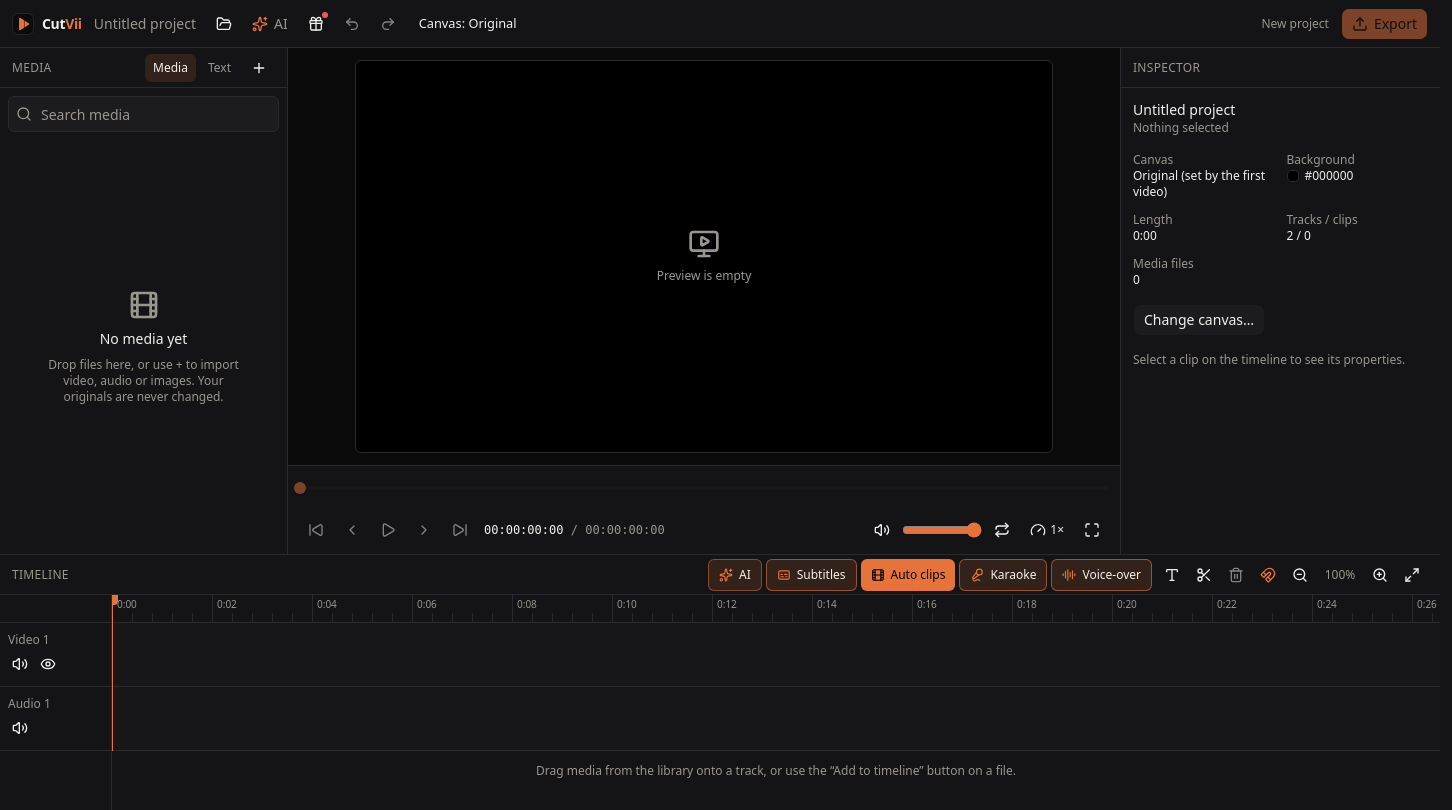
Test case: Original canvas applied by the first media › an image first falls back to 1920x1080 @ 30 and tells the user
The width and height of the screenshot is (1452, 810).
Click the button named "Import media".
click(259, 68)  # box [243,52,275,84]
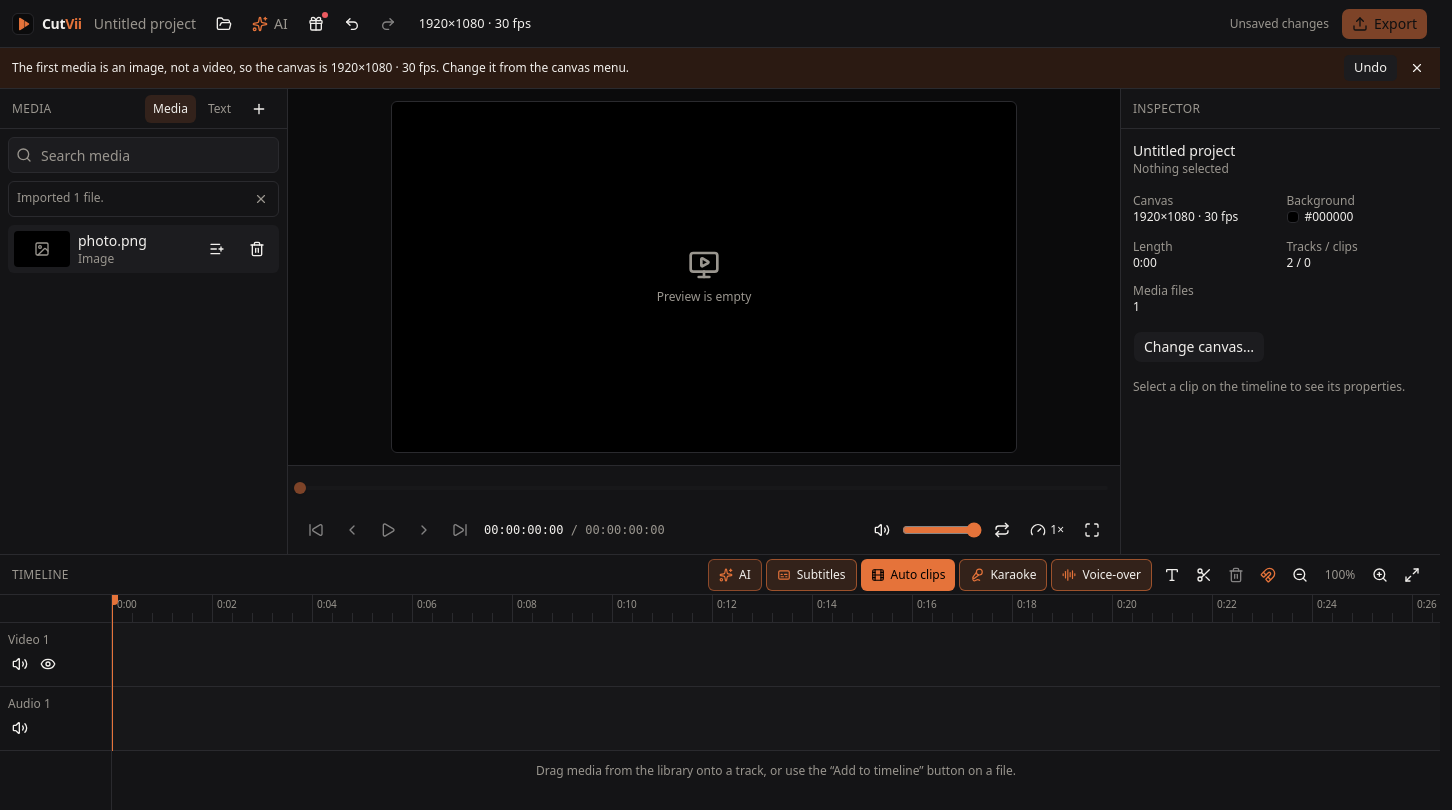
Check: the text "photo.png" is shown, box [78,231,147,250]
Check: the text "The first media is an image, not a video, so the canvas is 1920×1080 · 30 fps" is shown, box [12,59,629,76]
